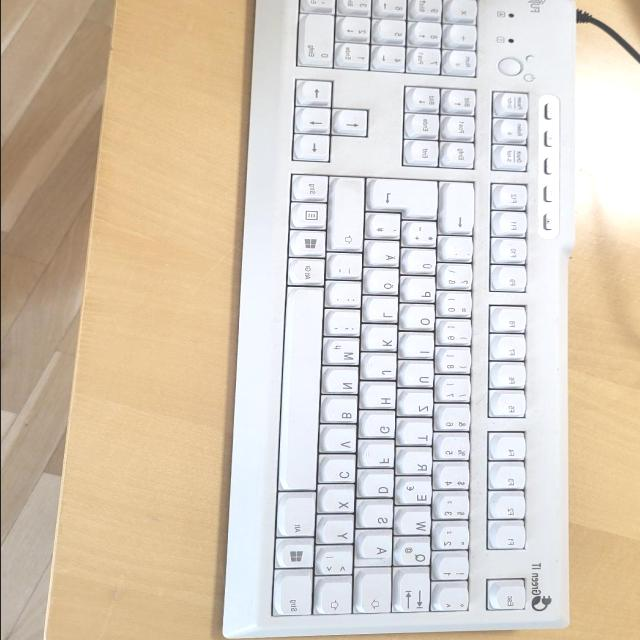0: (440, 293, 476, 319)
1: (438, 557, 472, 582)
2: (437, 524, 473, 552)
3: (437, 495, 473, 522)
4: (438, 466, 473, 492)
5: (437, 436, 473, 462)
6: (438, 407, 474, 433)
7: (440, 378, 474, 404)
8: (439, 349, 474, 375)
9: (439, 321, 475, 347)
a: (360, 535, 395, 563)
accent: (443, 239, 476, 265)
ae: (369, 243, 403, 269)
alt-left: (279, 495, 319, 539)
altgr-right: (290, 260, 328, 287)
b: (325, 400, 361, 426)
c: (323, 458, 359, 485)
caret: (437, 588, 471, 614)
comma: (328, 313, 364, 339)
d: (362, 474, 397, 500)
del: (444, 184, 478, 235)
e: (399, 479, 435, 507)
enter: (369, 181, 443, 222)
f: (364, 444, 398, 470)
g: (364, 414, 398, 440)
h: (365, 385, 399, 411)
hash: (370, 215, 404, 241)
i: (404, 336, 437, 360)
j: (366, 356, 400, 381)
k: (367, 327, 401, 353)
keyboard: (216, 0, 587, 638)
l: (367, 299, 401, 324)
less: (319, 550, 357, 578)
m: (326, 341, 362, 367)
minus: (331, 256, 365, 282)
n: (327, 370, 361, 396)
o: (404, 307, 438, 333)
oe: (367, 271, 402, 297)
p: (405, 279, 439, 305)
plus: (405, 223, 440, 249)
point: (330, 284, 364, 310)
q: (395, 540, 433, 569)
r: (401, 451, 435, 477)
s: (361, 504, 396, 530)
shift-left: (319, 582, 355, 616)
shift-lock: (359, 571, 395, 615)
shift-right: (332, 179, 368, 253)
space: (281, 289, 325, 493)
ss: (442, 266, 476, 292)
strg-left: (276, 573, 317, 619)
strg-right: (293, 176, 331, 204)
t: (402, 423, 435, 447)
tab: (397, 574, 433, 614)
u: (402, 363, 437, 389)
ue: (404, 251, 439, 277)
v: (324, 429, 359, 455)
w: (400, 511, 434, 537)
x: (323, 489, 358, 515)
y: (321, 521, 357, 547)
z: (402, 393, 436, 418)
